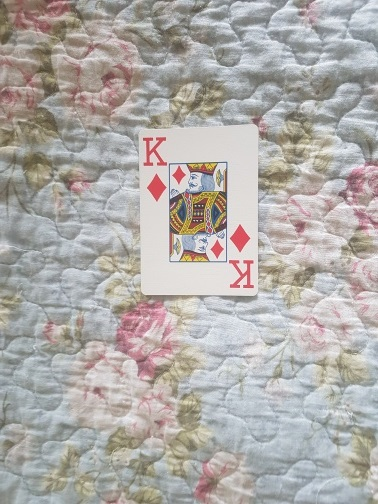king: (139, 123, 262, 296)
